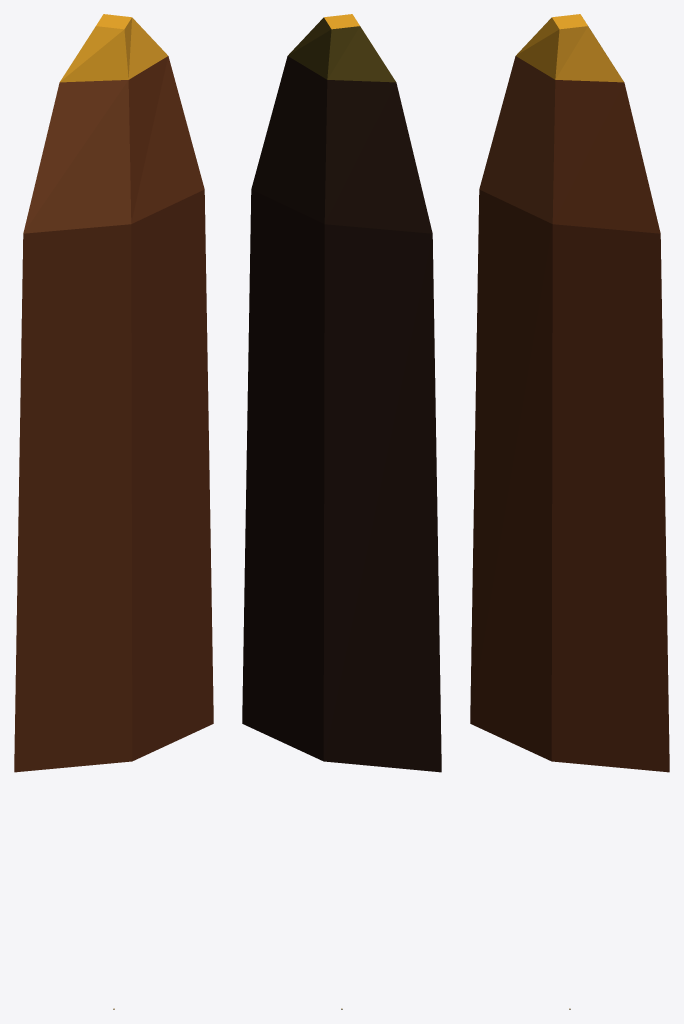
Rendered from gorran_sheath.glb.
3 views of the same model, side by side, from view 1: azimuth 30°, elevation 25°; view 2: azimuth 150°, elevation 25°; view 3: azimuth 330°, elevation 25° (orthographic).
Visible parts, largest first — view 1: sword_sheath; view 2: sword_sheath; view 3: sword_sheath.
Boxes of the visible parts, x1,y1,x2,y2 form: sword_sheath: [14, 14, 213, 1009]; sword_sheath: [242, 14, 441, 1009]; sword_sheath: [470, 14, 669, 1009].
Size of the model in its own units: 0.22 by 1.04 by 0.07.
Materials: 1 (1 with a texture image).
